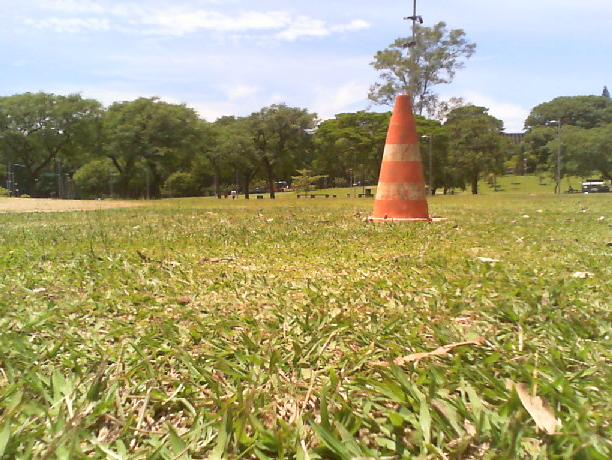0 cone: (365, 95, 445, 222)
